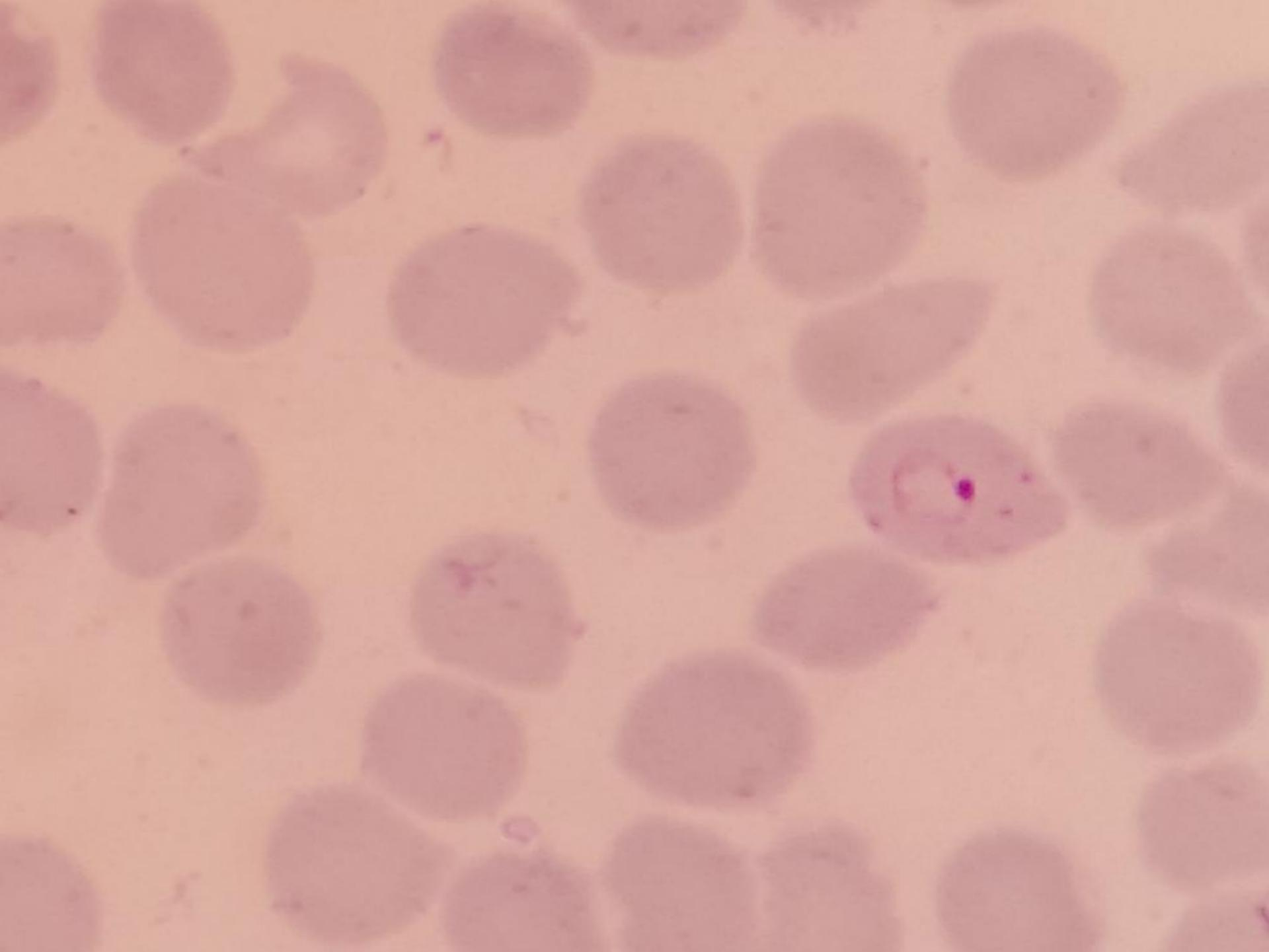Infected: (844, 412, 1068, 561)
Uninfected: (180, 48, 389, 215), (266, 778, 453, 952), (131, 179, 316, 347), (749, 118, 926, 292), (611, 648, 808, 803), (102, 403, 266, 580), (790, 276, 994, 415), (387, 225, 580, 365), (943, 25, 1116, 181), (575, 131, 741, 289), (410, 531, 576, 686), (1092, 597, 1259, 750), (1089, 223, 1263, 367), (590, 377, 753, 530), (362, 673, 528, 820), (1053, 395, 1233, 523), (157, 560, 316, 703), (431, 0, 595, 137), (608, 813, 767, 952), (88, 0, 229, 148), (750, 545, 926, 662), (755, 818, 904, 952), (934, 834, 1094, 952), (1117, 85, 1269, 207), (1132, 758, 1269, 885), (446, 851, 614, 952), (0, 208, 123, 343), (0, 370, 102, 528)
